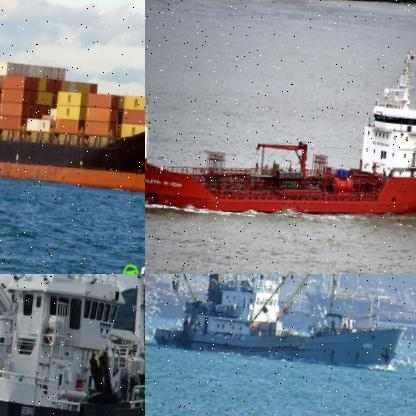Fishing Boat: (152, 274, 415, 373), (0, 274, 144, 415)
Merchant Ship: (145, 20, 415, 239), (0, 0, 144, 200)
